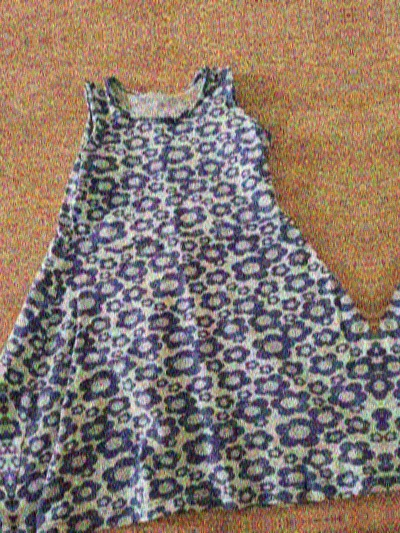Dress: (0, 46, 387, 533), (354, 14, 400, 511), (0, 77, 15, 533), (0, 0, 343, 16), (15, 519, 400, 533), (394, 487, 400, 533)
